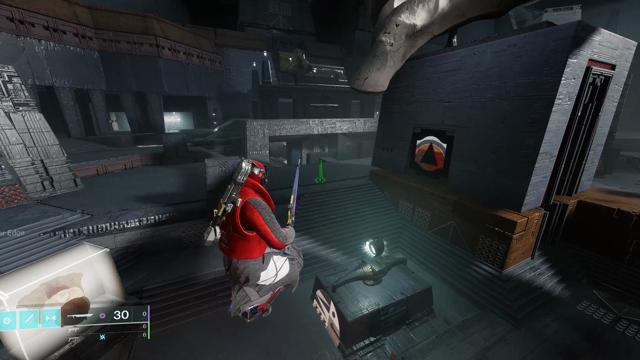stop: (414, 135, 447, 172)
